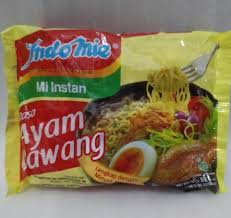Indomie Ayam Bawang (69g): (1, 19, 227, 198)
